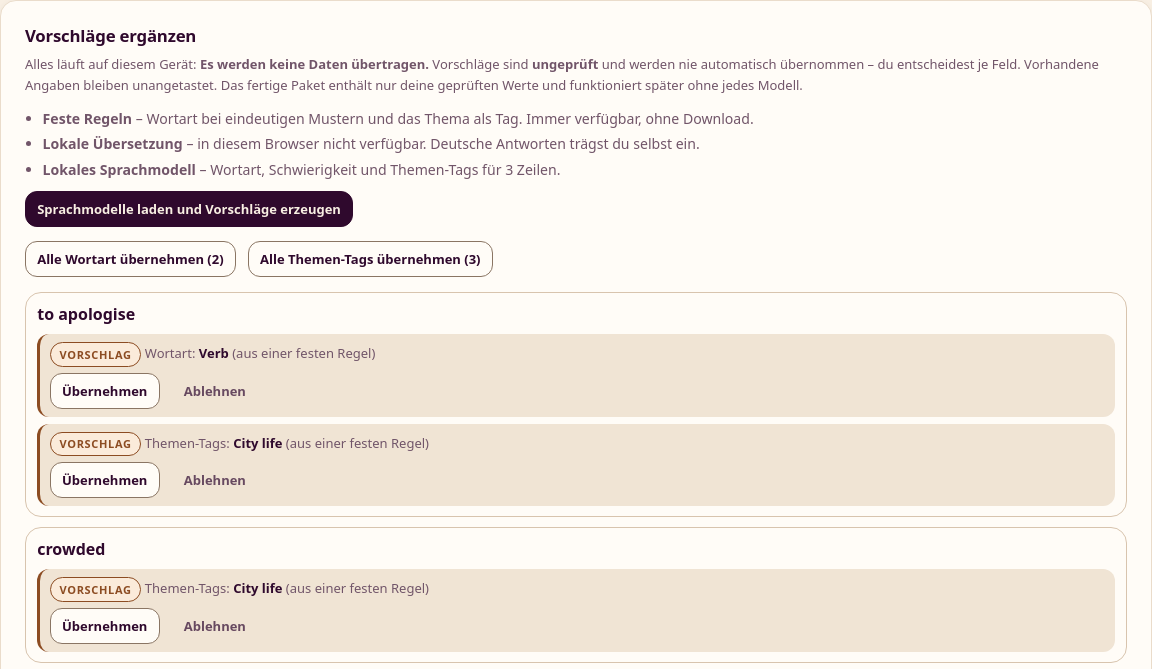
Test: Verfügbarkeit ist nicht dasselbe wie ein erfülltes Promise › ruft einen nicht verfügbaren Übersetzungsanbieter überhaupt nicht auf
What coordinates should you click on to do the following:
click the button "Sprachmodelle laden und Vorschläge erzeugen"
I would click on:
 (189, 209)
Its box is [25, 191, 353, 227].
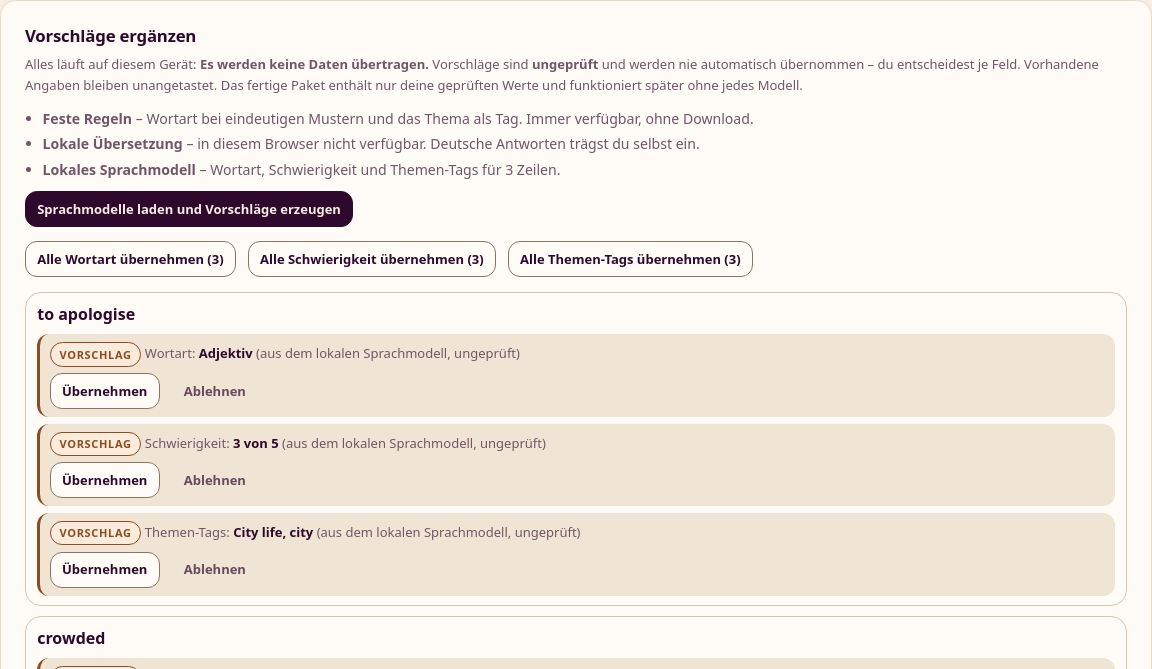
Expected: the text "3 von 5" is shown, [233, 434, 279, 452]
